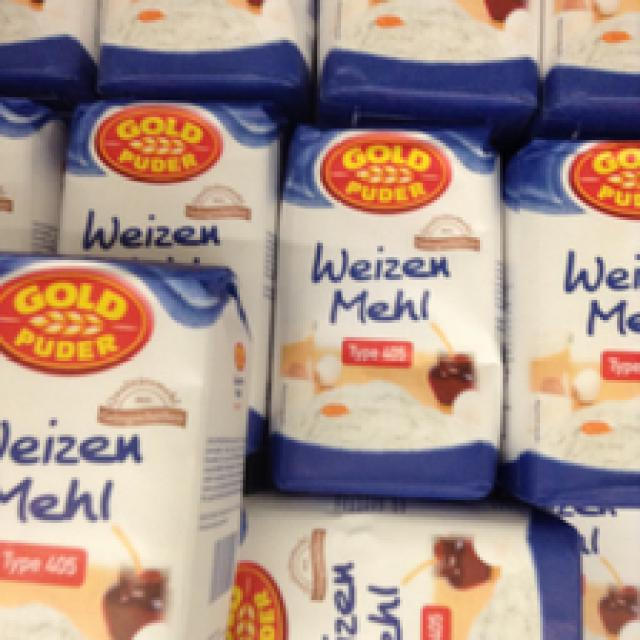groceries: (0, 249, 257, 637), (268, 123, 503, 497), (500, 123, 637, 506), (226, 494, 583, 637)
